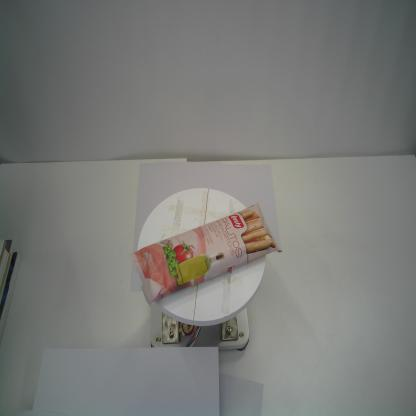Dessert: (132, 202, 282, 306)
